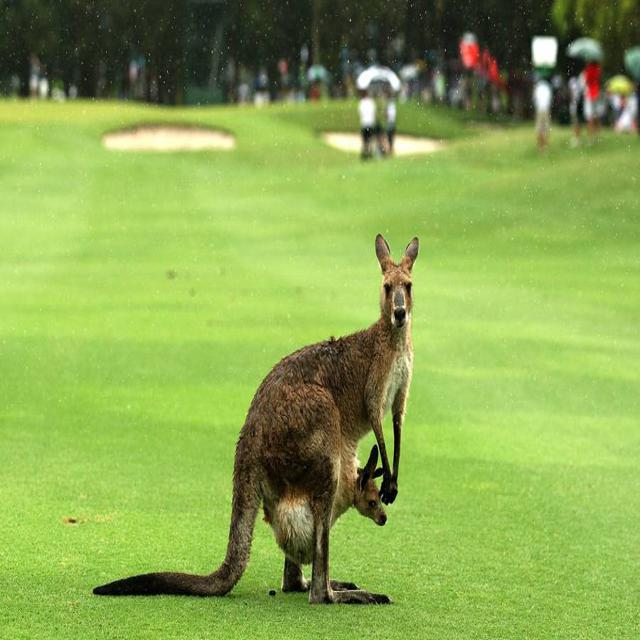kangaroo: (228, 232, 428, 609), (355, 443, 392, 532)
